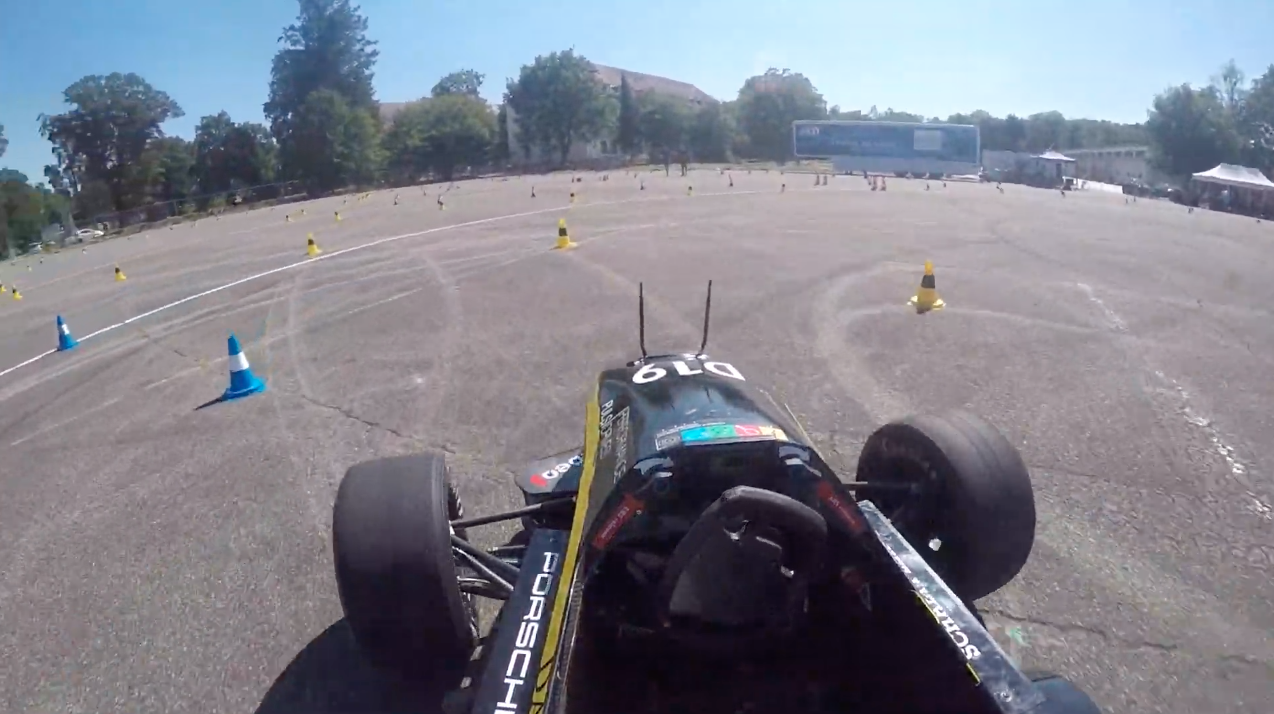lcone: (216, 332, 269, 400), (51, 310, 82, 355)
rcone: (905, 257, 948, 313), (549, 215, 578, 251), (301, 229, 323, 259)
